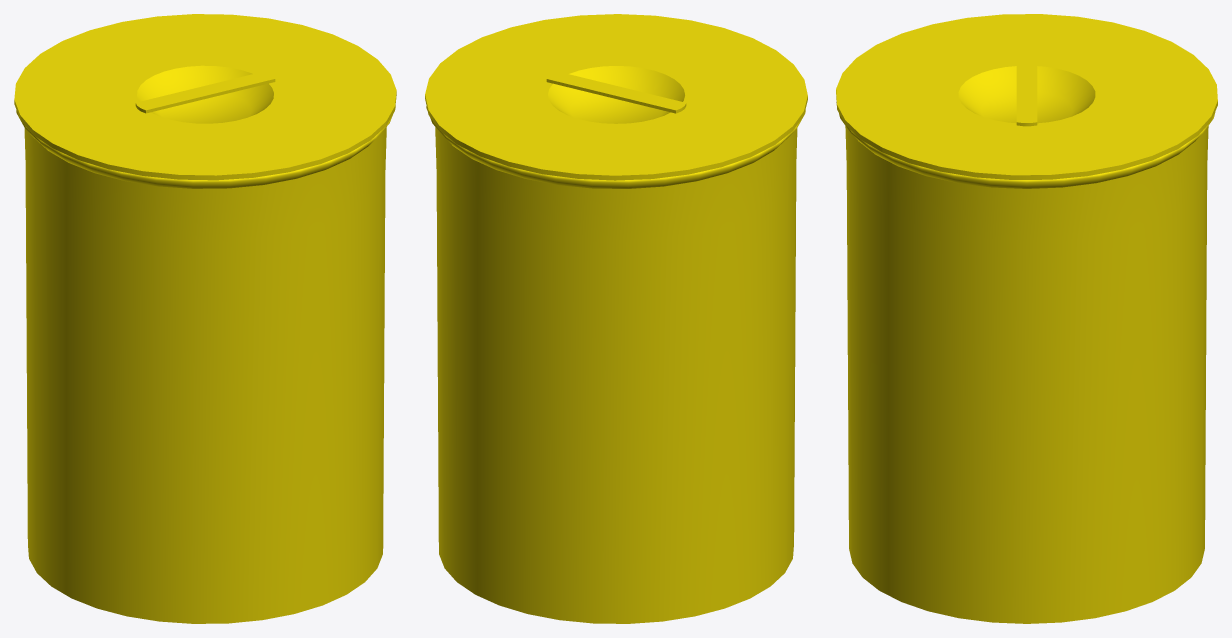
Rendered from SM_Storage_Container.FBX.
The picture shows the model from 3 angles, left to right: view 1: azimuth 30°, elevation 25°; view 2: azimuth 150°, elevation 25°; view 3: azimuth 270°, elevation 25°; orthographic projection.
Parts seen in each view (by area): view 1: Storage_Container_body, Storage_Container_cap; view 2: Storage_Container_body, Storage_Container_cap; view 3: Storage_Container_body, Storage_Container_cap.
Boxes of the visible parts, x1,y1,x2,y2 form: Storage_Container_body: (16, 107, 395, 623); Storage_Container_cap: (14, 14, 396, 180); Storage_Container_body: (426, 106, 805, 623); Storage_Container_cap: (425, 14, 807, 180); Storage_Container_body: (836, 102, 1215, 623); Storage_Container_cap: (836, 14, 1217, 179).
Bounding box in the file's own units: 255 × 341 × 255.
